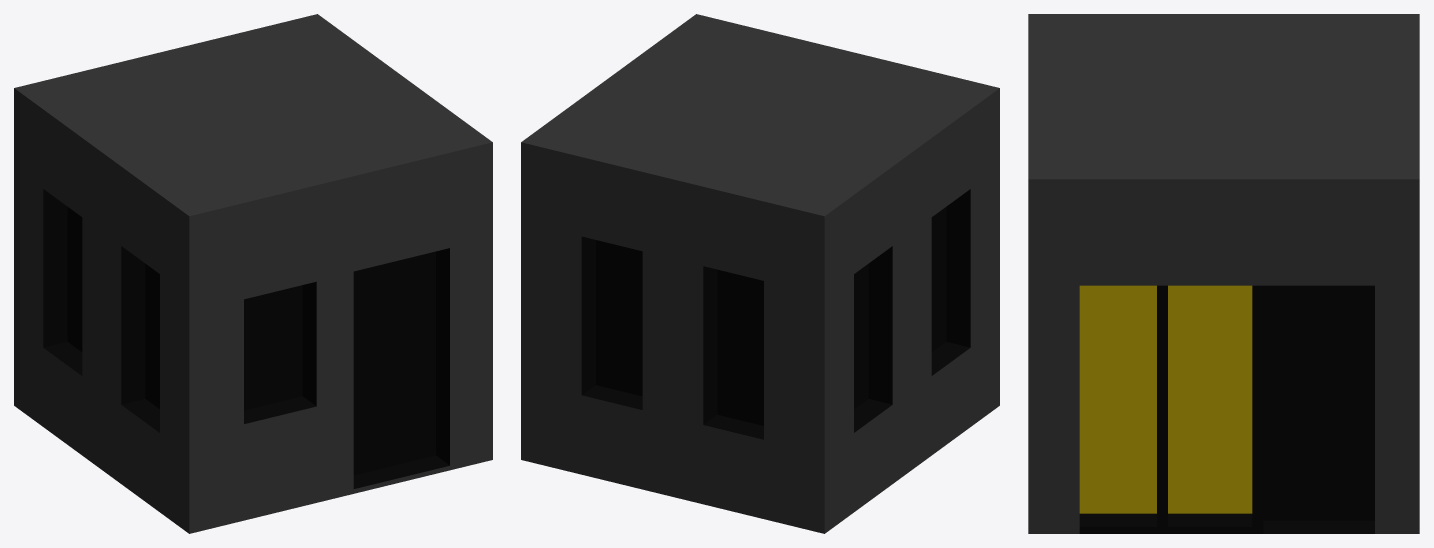
The model's file is b77ground.fbx.
3 views of the same model, side by side, from view 1: azimuth 30°, elevation 25°; view 2: azimuth 150°, elevation 25°; view 3: azimuth 270°, elevation 25° (orthographic). The views are drawn at different scales.
Visible parts, largest first — view 1: Cube.001; view 2: Cube.001; view 3: Cube.001.
Part boxes in pixels (x1,y1,x2,y2): Cube.001: (14, 14, 492, 533); Cube.001: (521, 14, 999, 533); Cube.001: (1028, 14, 1419, 533).
Bounding box in the file's own units: 100 × 100 × 100.
